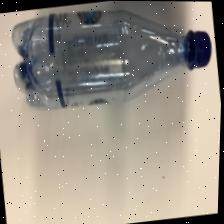plastic: (4, 0, 220, 114)
